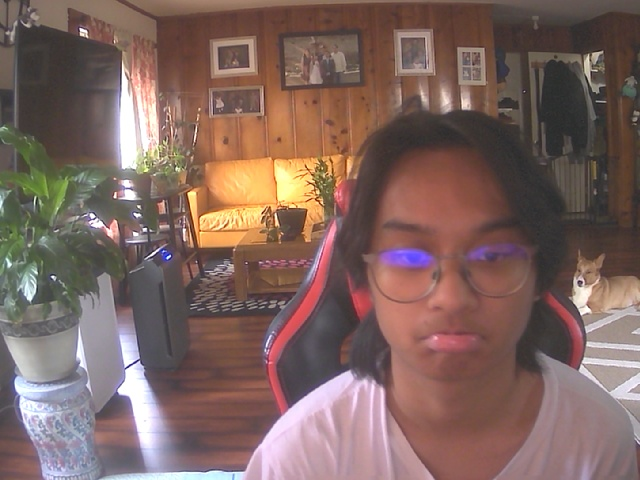sad: (360, 123, 551, 387)
